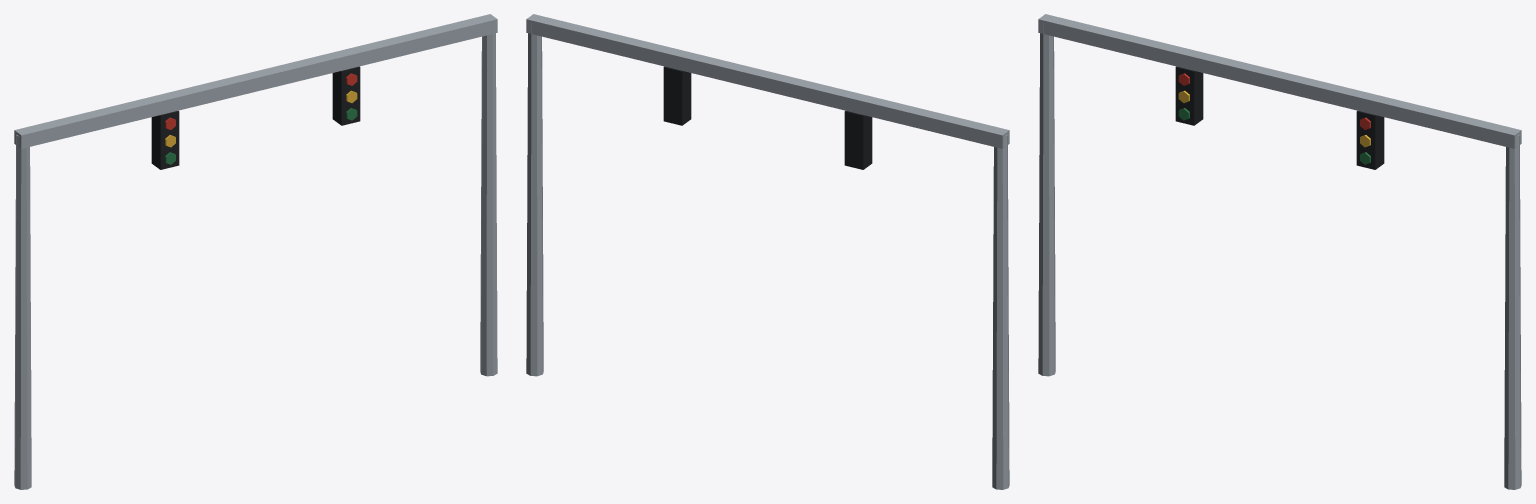
The model's file is TrafficLight_Gantry_8m.glb.
The picture shows the model from 3 angles, left to right: view 1: azimuth 30°, elevation 25°; view 2: azimuth 150°, elevation 25°; view 3: azimuth 330°, elevation 25°; orthographic projection.
Visible parts, largest first — view 1: TrafficLight_Gantry_8m_Metal, TrafficLight_Gantry_8m_Rubber; view 2: TrafficLight_Gantry_8m_Metal, TrafficLight_Gantry_8m_Rubber; view 3: TrafficLight_Gantry_8m_Metal, TrafficLight_Gantry_8m_Rubber.
Part boxes in pixels (box(x1,y1,x2,y2)): TrafficLight_Gantry_8m_Metal: box(14, 14, 497, 489); TrafficLight_Gantry_8m_Rubber: box(151, 66, 360, 169); TrafficLight_Gantry_8m_Metal: box(526, 14, 1009, 489); TrafficLight_Gantry_8m_Rubber: box(663, 66, 872, 169); TrafficLight_Gantry_8m_Metal: box(1038, 14, 1521, 489); TrafficLight_Gantry_8m_Rubber: box(1175, 66, 1384, 169).
Bounding box in the file's own units: 9.3 × 6.55 × 0.34.
